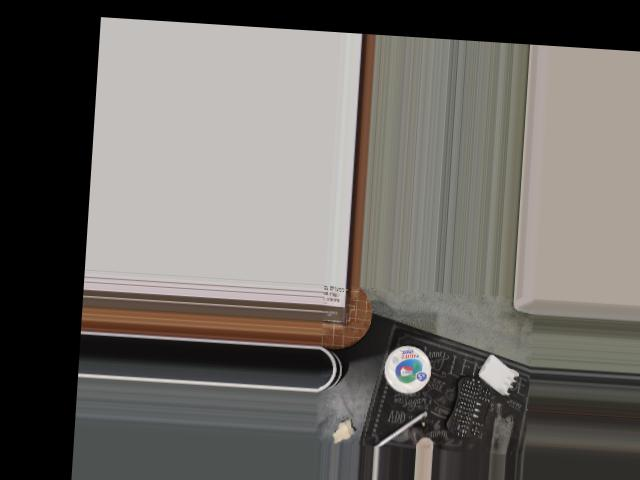cotage: (380, 335, 435, 395)
